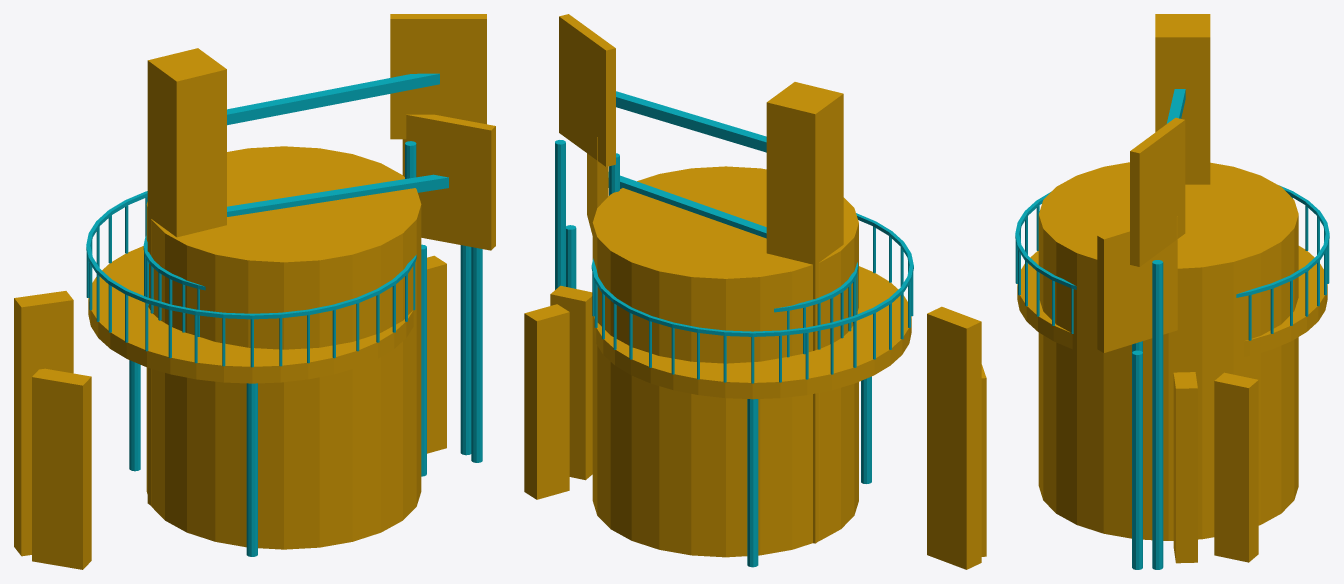
File: folie_tag_141.glb
The picture shows the model from 3 angles, left to right: view 1: azimuth 30°, elevation 25°; view 2: azimuth 150°, elevation 25°; view 3: azimuth 270°, elevation 25°; orthographic projection. The views are drawn at different scales.
Visible parts, largest first — view 1: folie_tag_141_00_drum, folie_tag_141_line, folie_tag_141_core, folie_tag_141_01_ring, folie_tag_141_03_fin, folie_tag_141_06_panel, folie_tag_141_05_panel, folie_tag_141_02_fin, folie_tag_141_04_fin; view 2: folie_tag_141_00_drum, folie_tag_141_line, folie_tag_141_core, folie_tag_141_02_fin, folie_tag_141_01_ring, folie_tag_141_07_fin, folie_tag_141_05_panel, folie_tag_141_04_fin, folie_tag_141_06_panel, folie_tag_141_03_fin; view 3: folie_tag_141_00_drum, folie_tag_141_line, folie_tag_141_07_fin, folie_tag_141_core, folie_tag_141_06_panel, folie_tag_141_05_panel, folie_tag_141_04_fin, folie_tag_141_01_ring.
Boxes of the visible parts, x1,y1,x2,y2 form: folie_tag_141_00_drum: (146, 146, 421, 549); folie_tag_141_line: (86, 73, 482, 556); folie_tag_141_core: (147, 48, 226, 505); folie_tag_141_01_ring: (88, 246, 413, 383); folie_tag_141_03_fin: (32, 368, 91, 569); folie_tag_141_06_panel: (402, 114, 495, 250); folie_tag_141_05_panel: (390, 14, 486, 139); folie_tag_141_02_fin: (14, 291, 73, 556); folie_tag_141_04_fin: (427, 255, 446, 453); folie_tag_141_00_drum: (592, 166, 858, 557); folie_tag_141_line: (555, 91, 913, 567); folie_tag_141_core: (766, 82, 843, 543); folie_tag_141_02_fin: (927, 306, 981, 569); folie_tag_141_01_ring: (593, 266, 911, 399); folie_tag_141_07_fin: (524, 304, 569, 499); folie_tag_141_05_panel: (559, 14, 615, 166); folie_tag_141_04_fin: (550, 285, 592, 480); folie_tag_141_06_panel: (587, 137, 608, 235); folie_tag_141_03_fin: (981, 364, 986, 556); folie_tag_141_00_drum: (1038, 162, 1298, 540); folie_tag_141_line: (1015, 89, 1329, 569); folie_tag_141_07_fin: (1214, 372, 1258, 562); folie_tag_141_core: (1155, 14, 1210, 184); folie_tag_141_06_panel: (1097, 216, 1177, 352); folie_tag_141_05_panel: (1130, 117, 1185, 266); folie_tag_141_04_fin: (1173, 372, 1197, 563); folie_tag_141_01_ring: (1017, 246, 1327, 356).
Bounding box in the file's own units: 9.85 × 9.26 × 6.29.
